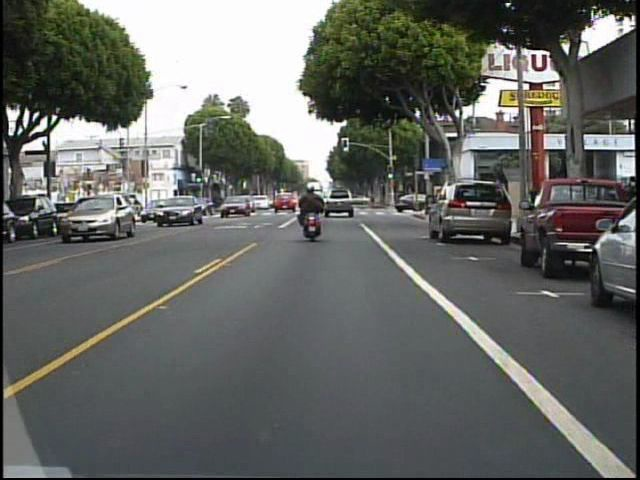person: (295, 182, 330, 241)
